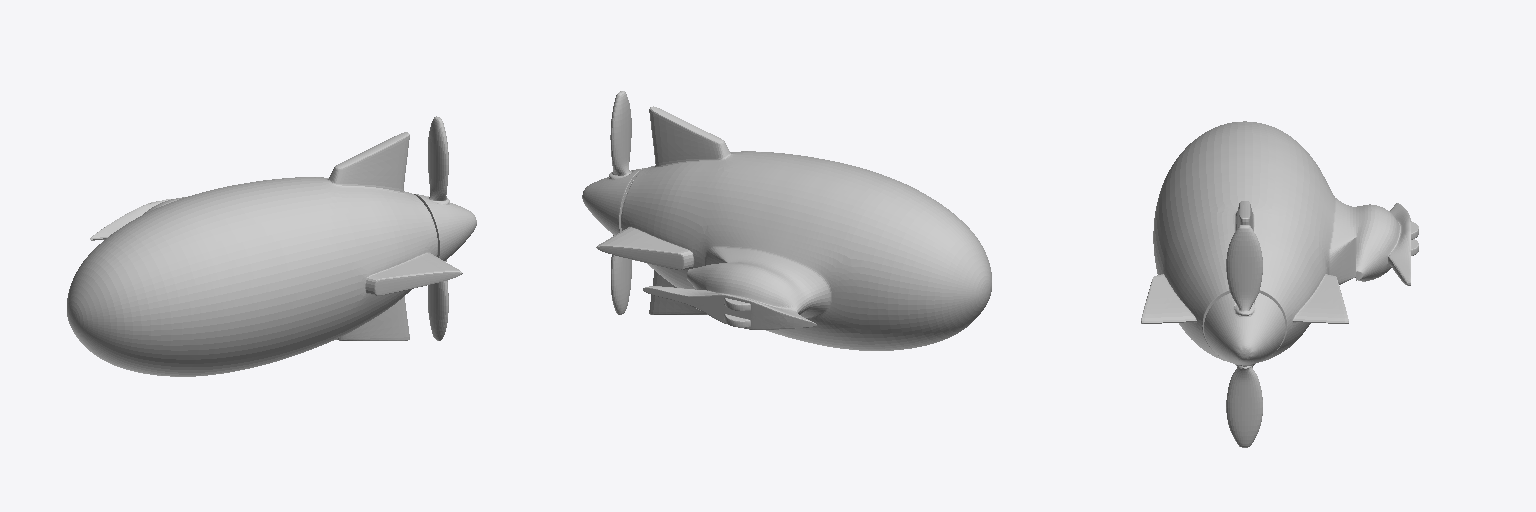
Rendered from zeppelin.obj.
3 views of the same model, side by side, from view 1: azimuth 30°, elevation 25°; view 2: azimuth 150°, elevation 25°; view 3: azimuth 270°, elevation 25° (orthographic).
Visible parts, largest first — view 1: 15722_Steampunk_Vehicle_Dirigible_1_v1; view 2: 15722_Steampunk_Vehicle_Dirigible_1_v1; view 3: 15722_Steampunk_Vehicle_Dirigible_1_v1.
Part boxes in pixels (bbox=[...]): 15722_Steampunk_Vehicle_Dirigible_1_v1: bbox=[67, 116, 476, 376]; 15722_Steampunk_Vehicle_Dirigible_1_v1: bbox=[582, 91, 991, 350]; 15722_Steampunk_Vehicle_Dirigible_1_v1: bbox=[1141, 121, 1418, 447].
Bounding box in the file's own units: 25.27 × 13.33 × 15.15.